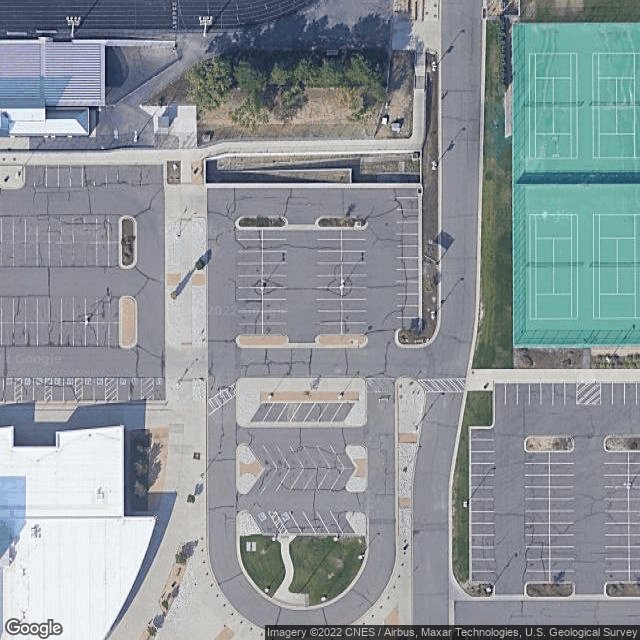Court: (525, 51, 580, 160), (526, 212, 580, 320), (590, 50, 640, 160), (590, 211, 640, 320)
